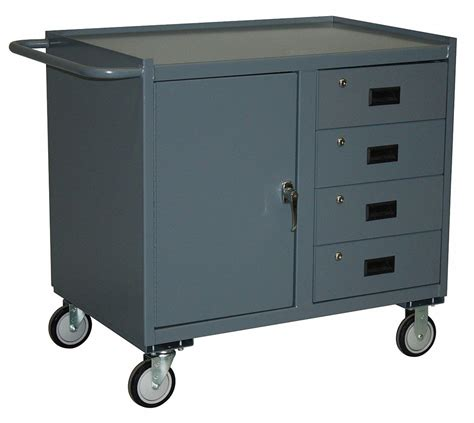Carts: (8, 16, 456, 408)
